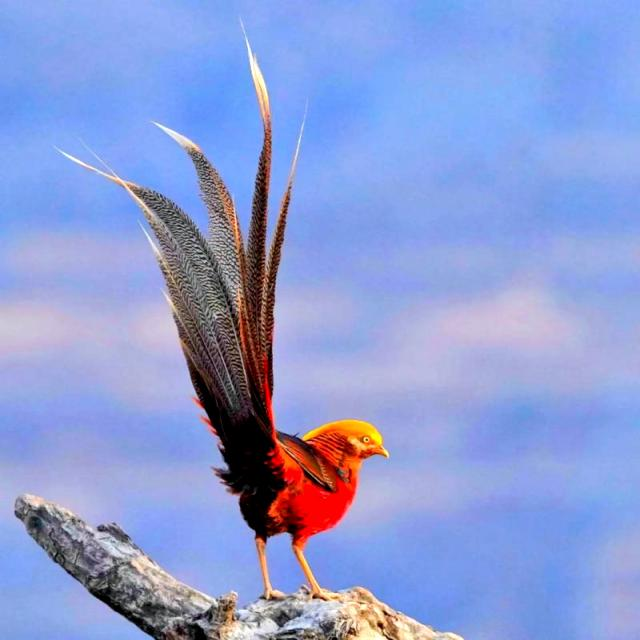Chrysolophus pictus feather: (51, 23, 306, 458)
